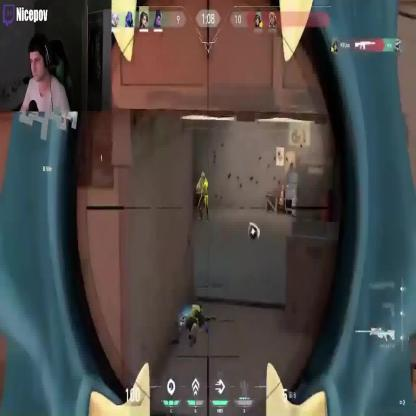enemy: (196, 172, 209, 221)
enemy_head: (200, 171, 206, 179)
